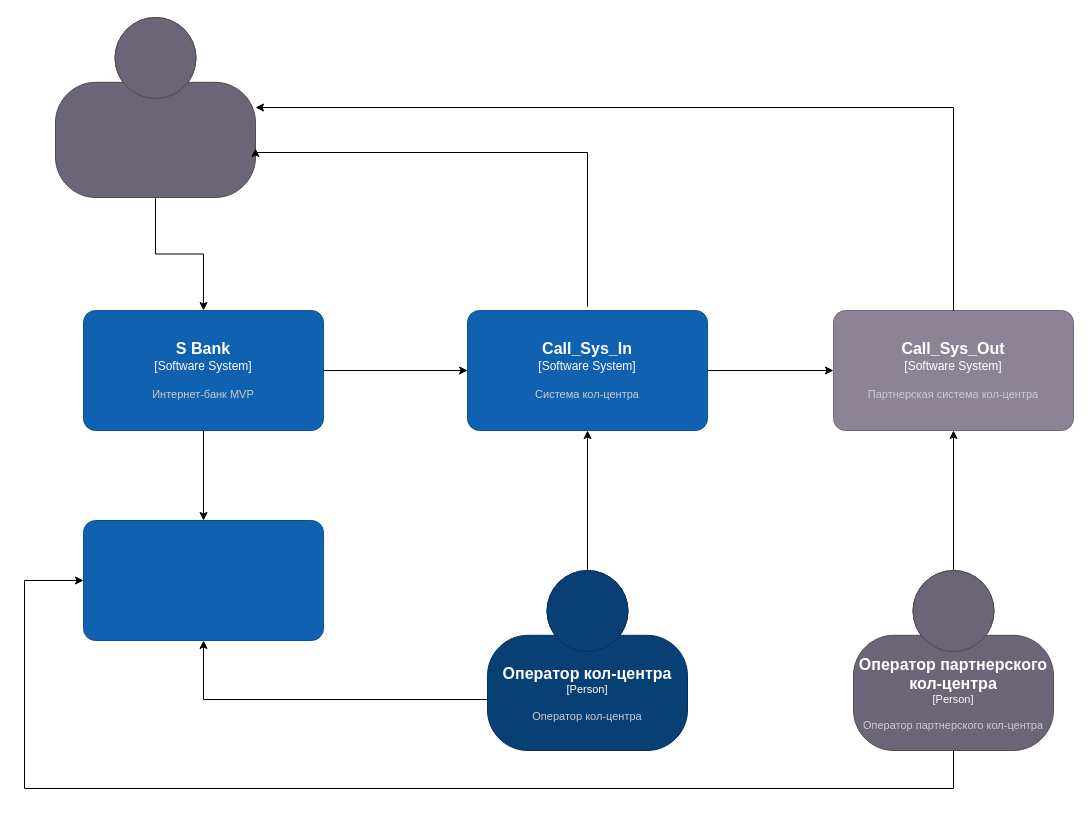
Some shapes in this 1091 by 814 pixel diagram are drawn without their labels. Each missing label, with the centre of its shape:
"ABS [Software System] Автоматизированная банковская система" belongs at point (203, 580).
"Клиент [Person] Клиент" belongs at point (155, 107).
